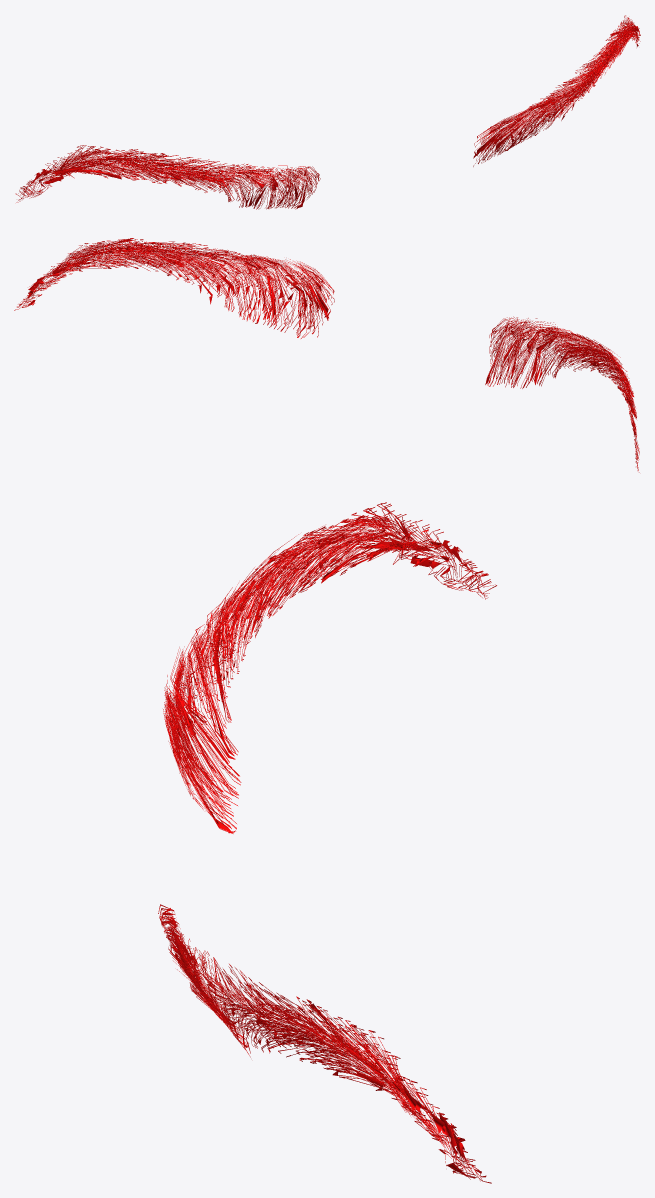
The model's file is mindfront_eyebrows_10_F.glb.
3 views of the same model, one above another, from view 1: azimuth 30°, elevation 25°; view 2: azimuth 150°, elevation 25°; view 3: azimuth 270°, elevation 25° (orthographic). The views are drawn at different scales.
Size of the model in its own units: 0.1209 by 0.0149 by 0.0285.
Materials: 1 (1 with a texture image).
